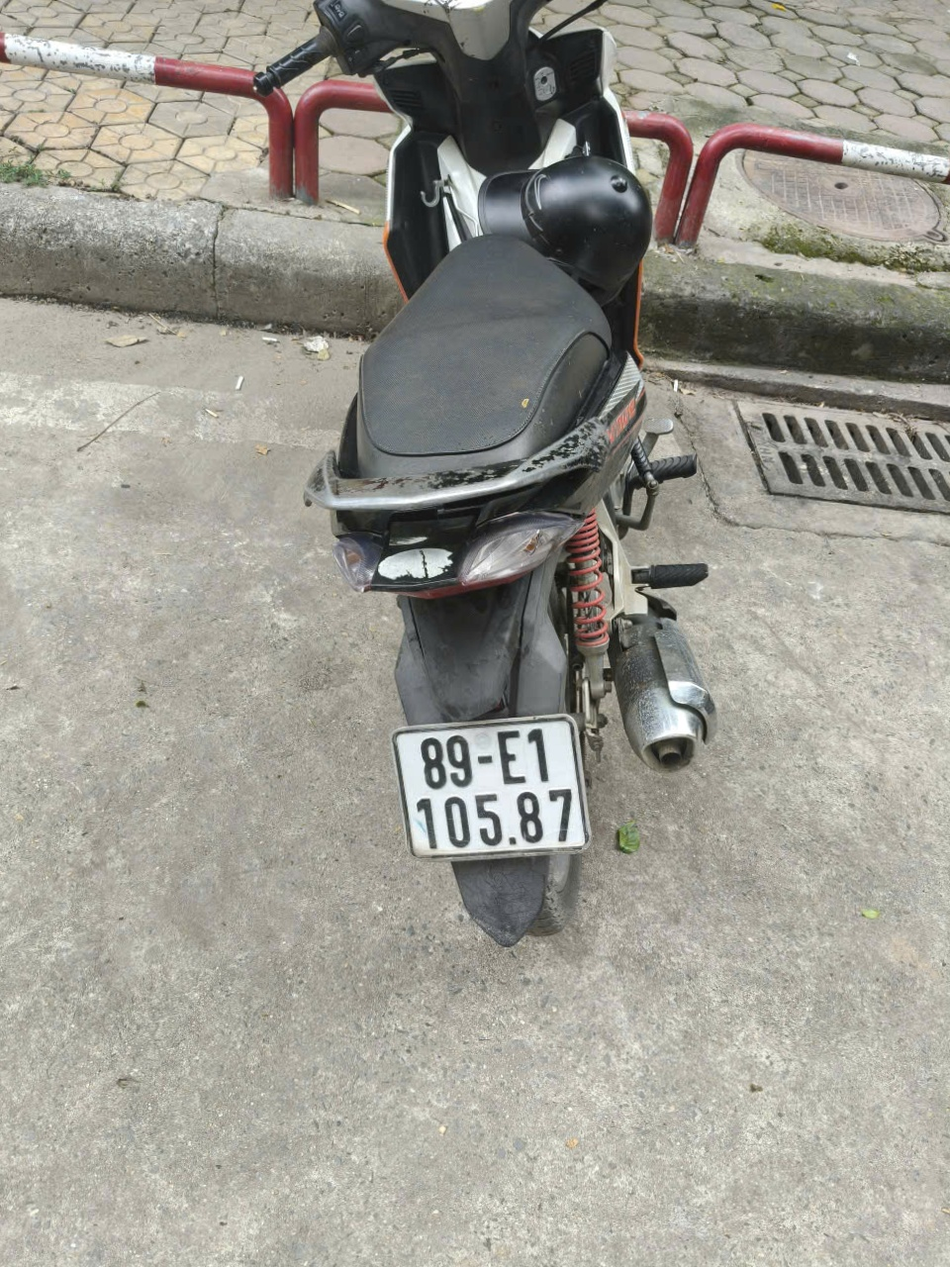plate: (619, 91, 730, 131)
